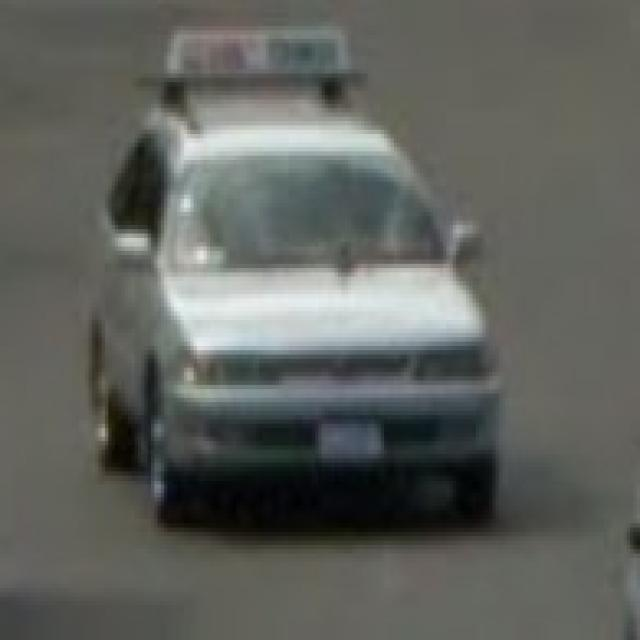cars: (100, 47, 507, 516)
